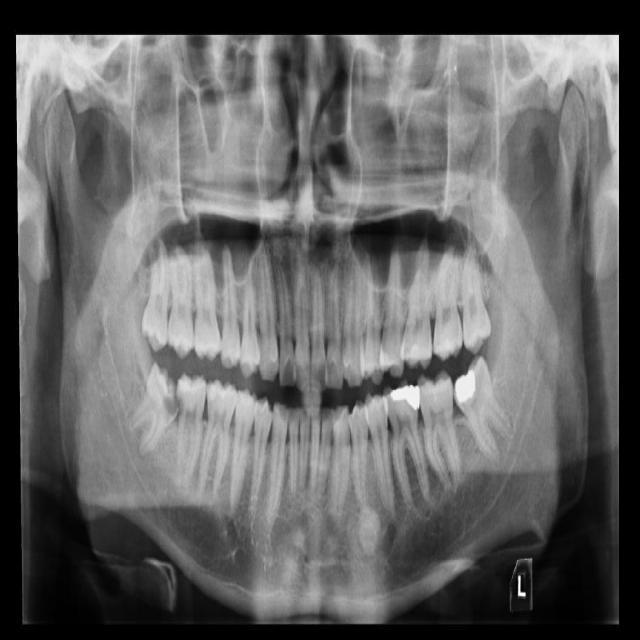3M ESPE Implant: (141, 222, 171, 352)
52: (441, 351, 506, 421), (378, 375, 428, 429), (415, 370, 459, 421), (399, 323, 433, 371), (378, 327, 405, 378), (161, 394, 183, 427), (176, 398, 184, 423)
73: (600, 574, 618, 588)
BioHorizons Implant: (431, 247, 468, 363)
BioLife Implant: (456, 234, 494, 357)
Biomet 3i Implant: (441, 352, 525, 468)
Blue Sky Bio Implant: (416, 368, 464, 497)
Caries: (161, 235, 196, 362)
Implant: (167, 371, 209, 491)
Keystone Dental Implant: (118, 361, 193, 465)
